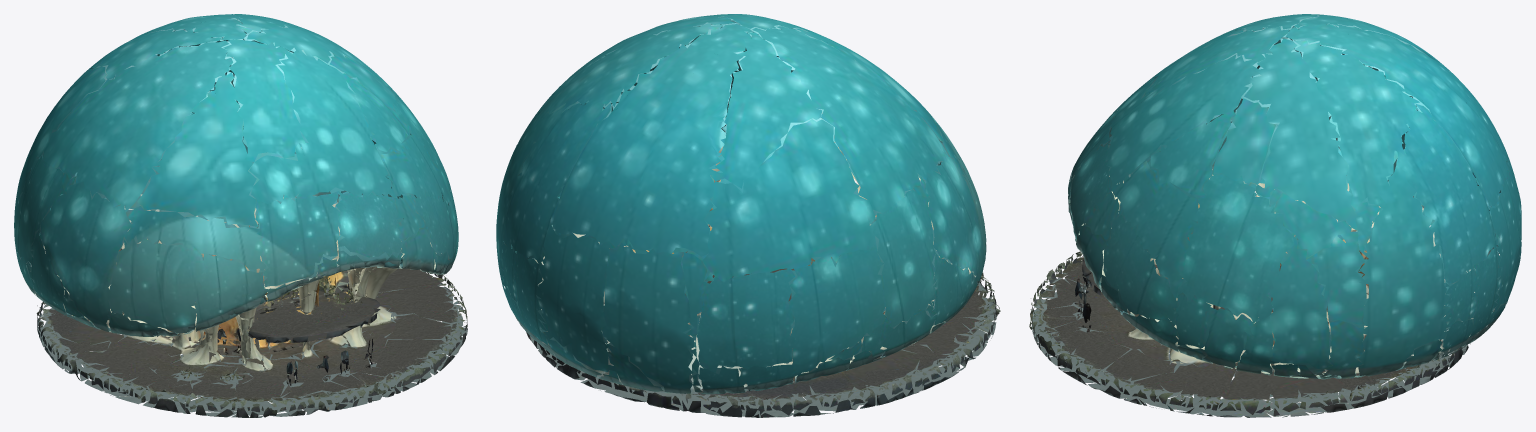
Rendered from sanct.glb.
3 renders of one model, left to right at view 1: azimuth 30°, elevation 25°; view 2: azimuth 150°, elevation 25°; view 3: azimuth 270°, elevation 25°, orthographic. The views are drawn at different scales.
Size of the model in its own units: 1.8 by 1.24 by 1.9.
1 material, 1 textured.
